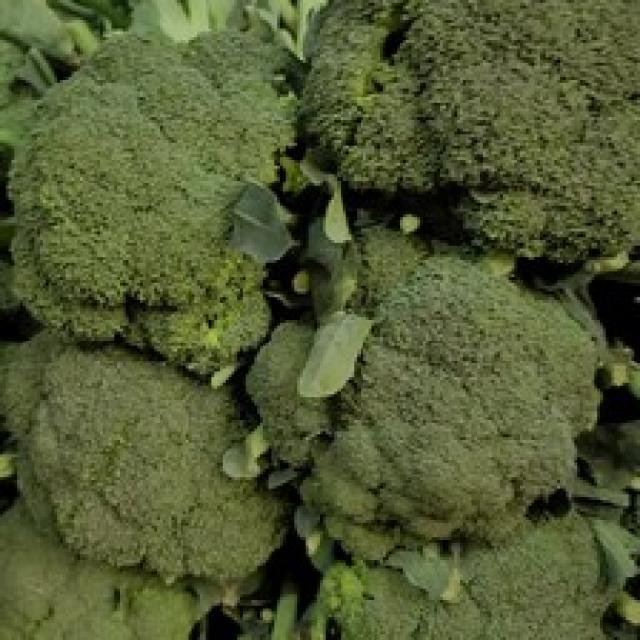Broccoli: (16, 32, 294, 374), (16, 32, 294, 374), (302, 0, 640, 262), (311, 256, 599, 559), (310, 255, 595, 559), (5, 332, 288, 582), (5, 334, 288, 582)
